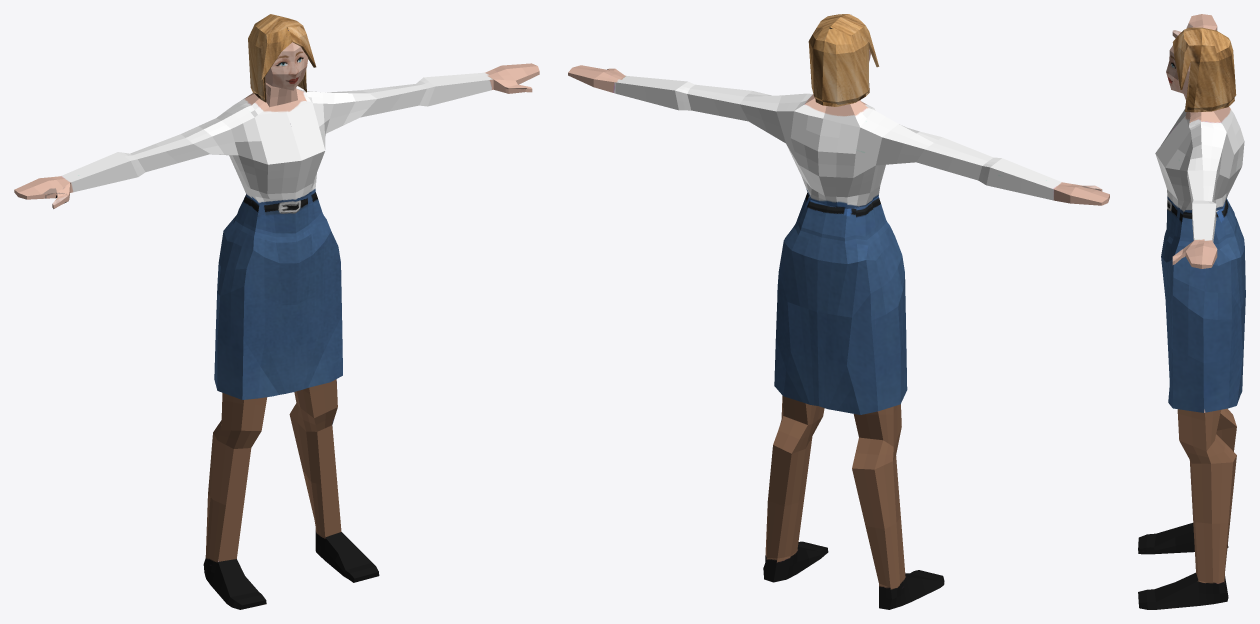
File: kobitka.glb
3 renders of one model, left to right at view 1: azimuth 30°, elevation 25°; view 2: azimuth 150°, elevation 25°; view 3: azimuth 270°, elevation 25°, orthographic. The views are drawn at different scales.
Visible parts, largest first — view 1: Cube.061, Cube.062; view 2: Cube.061, Cube.062; view 3: Cube.061, Cube.062.
Part boxes in pixels (box(x1,y1,x2,y2)): Cube.061: box(14, 30, 539, 609); Cube.062: box(248, 14, 316, 102); Cube.061: box(568, 49, 1109, 609); Cube.062: box(808, 14, 879, 106); Cube.061: box(1138, 14, 1245, 609); Cube.062: box(1172, 27, 1236, 112).
Size of the model in its own units: 4.42 by 4.49 by 0.8041.
2 materials, 2 textured.
